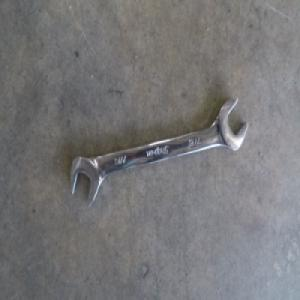Wrench: (72, 98, 244, 205)
